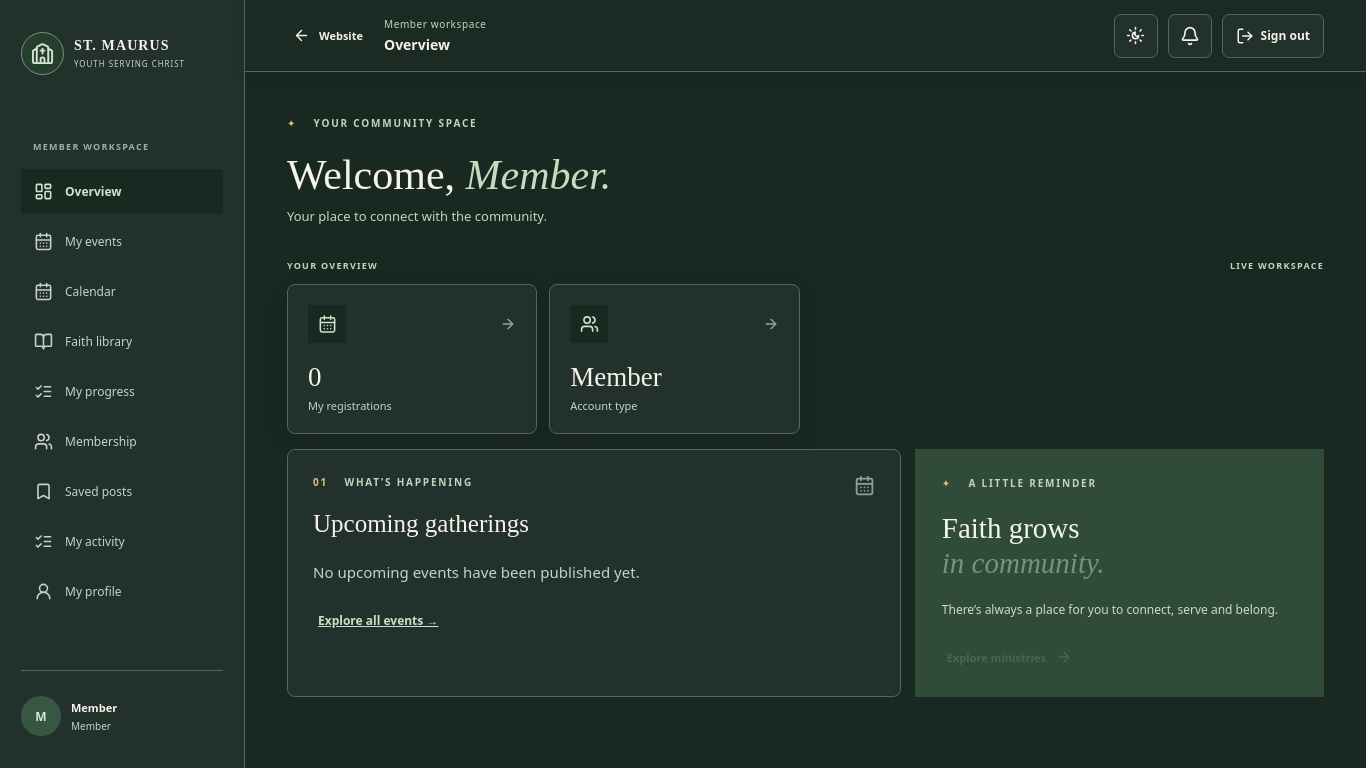
Test: membership, progress and broadcasts › lets a member request membership and mark a resource complete
The image size is (1366, 768).
Click the button "Membership" at (122, 442), box [21, 419, 223, 464]
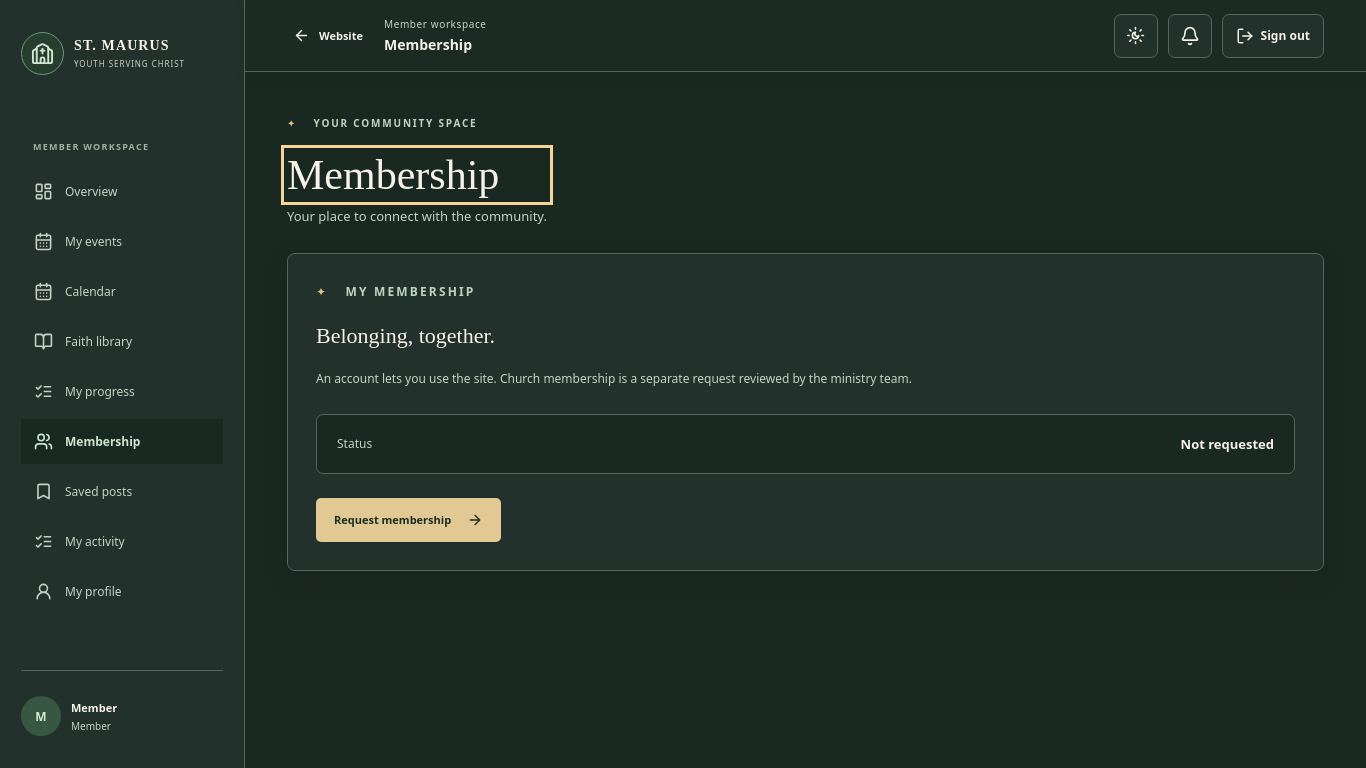
Click the button "Request membership" at (409, 520), box [316, 498, 501, 542]
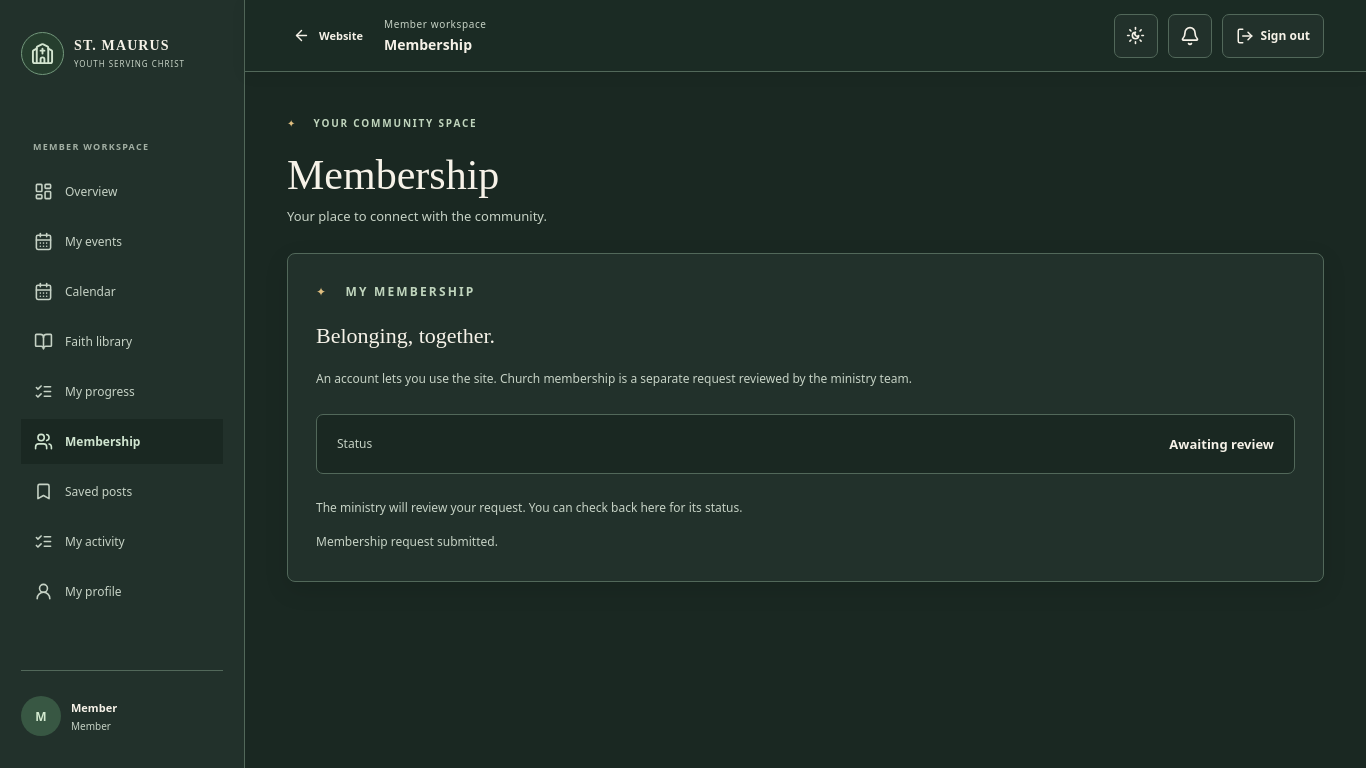
Expected: the text "Awaiting review" is shown, [1169, 435, 1274, 453]
Click the button "My progress" at (122, 392), box [21, 369, 223, 414]
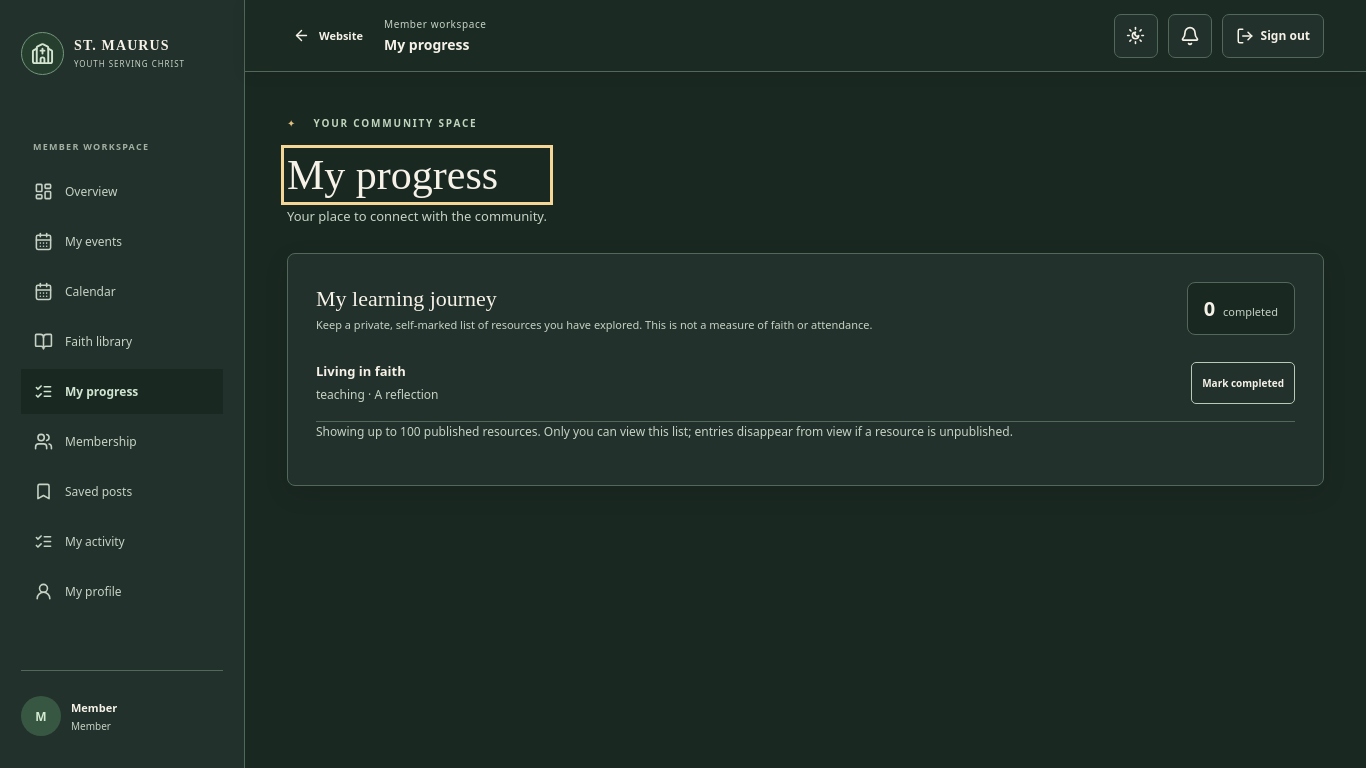
Click the button "Mark completed" at (1243, 383), box [1191, 362, 1295, 404]
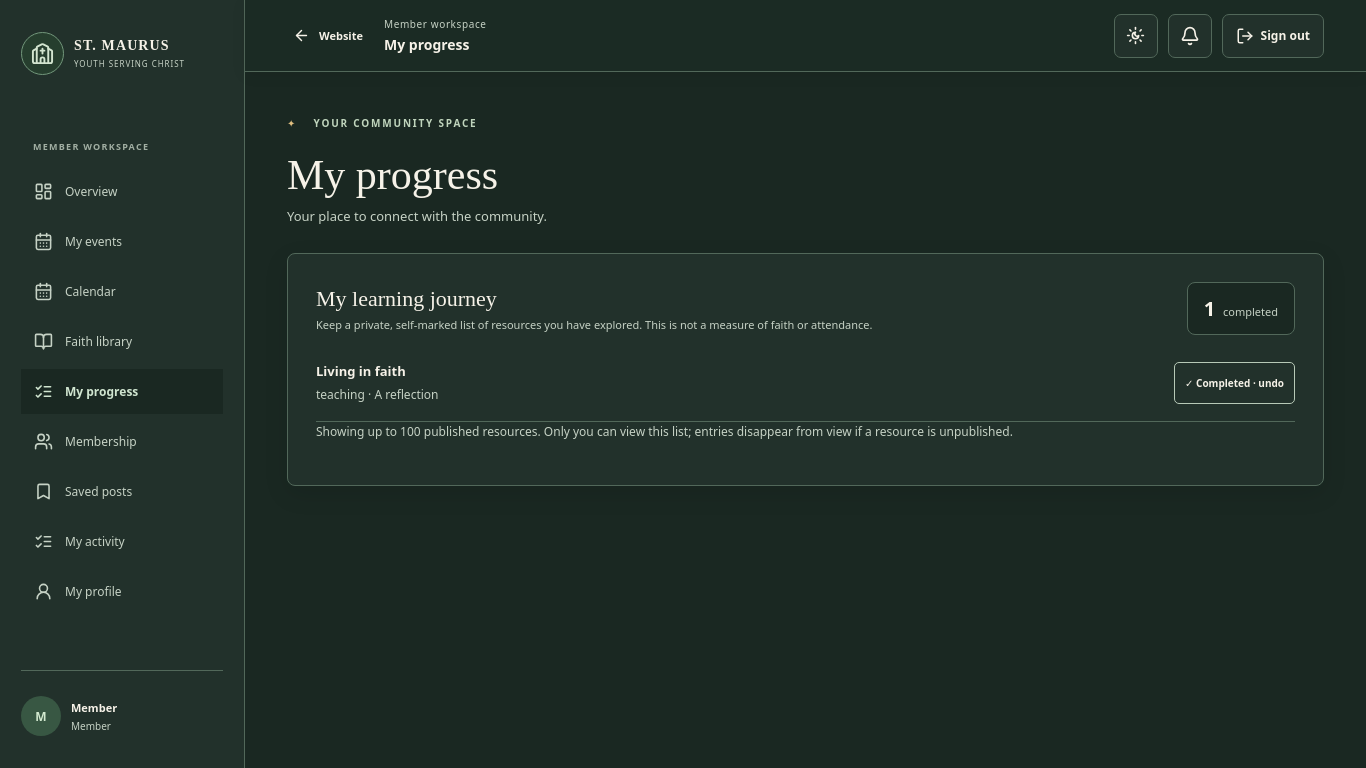
Expected: the button "✓ Completed · undo" is pressed, [1174, 362, 1295, 404]
